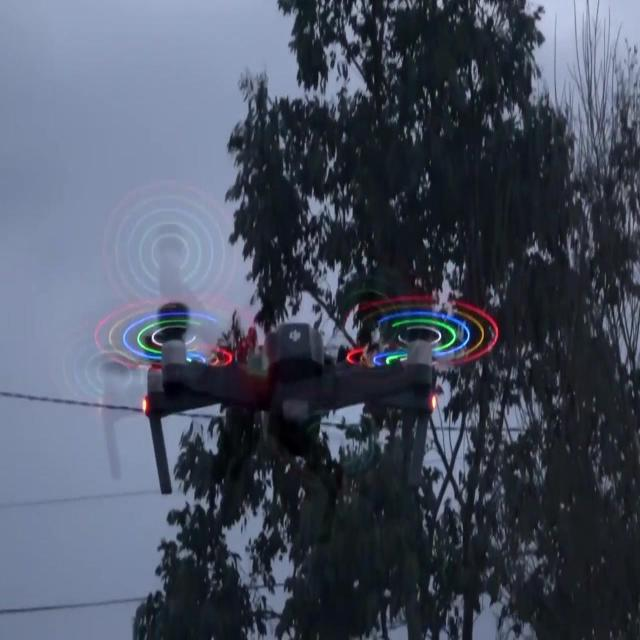UAV: (94, 294, 498, 544)
